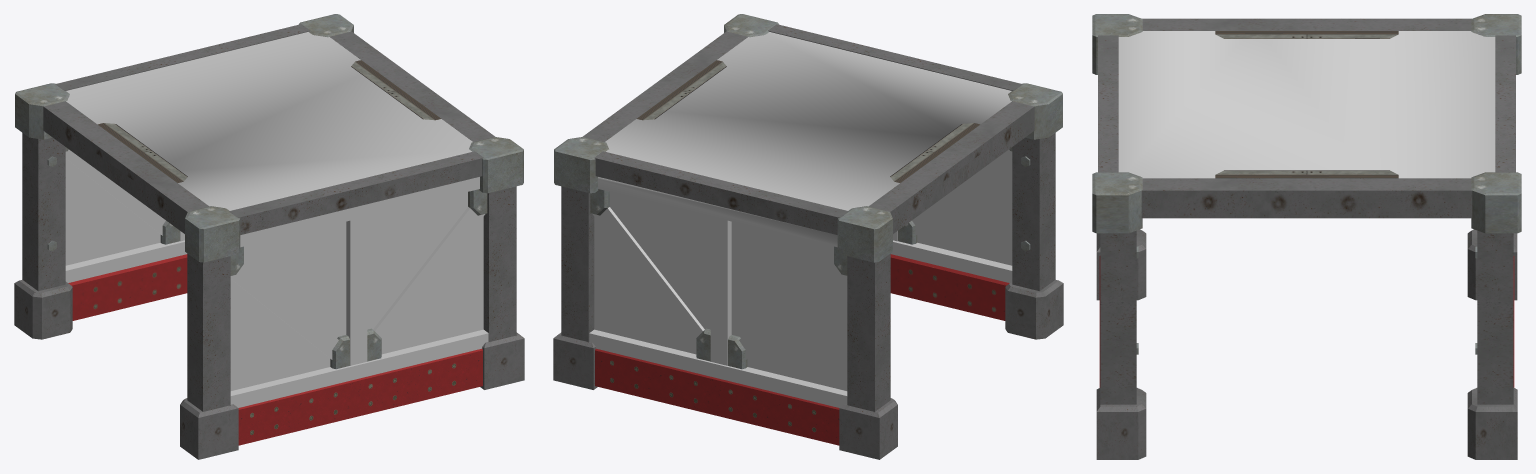
Rendered from Ob_Hallway_RC.fbx.
3 renders of one model, left to right at view 1: azimuth 30°, elevation 25°; view 2: azimuth 150°, elevation 25°; view 3: azimuth 270°, elevation 25°, orthographic. The views are drawn at different scales.
Visible parts, largest first — view 1: Ob_Hallway_RC; view 2: Ob_Hallway_RC; view 3: Ob_Hallway_RC.
Boxes of the visible parts, x1,y1,x2,y2 form: Ob_Hallway_RC: [14, 14, 524, 459]; Ob_Hallway_RC: [553, 14, 1063, 459]; Ob_Hallway_RC: [1092, 14, 1521, 459].
Bounding box in the file's own units: 1782 × 1210 × 1776.
